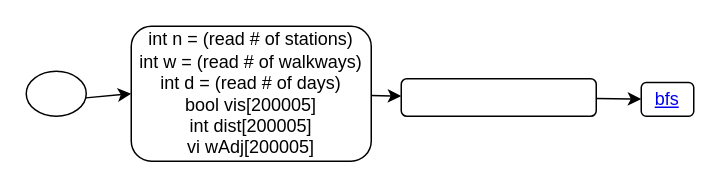
The diagram is 720 pixels wide and 188 high, and some of its shapes have lost their labels. The centre of each missing label's shape, as x and y in pixels:
start: point 55,93
wAdj= (store walkways): point 498,96
